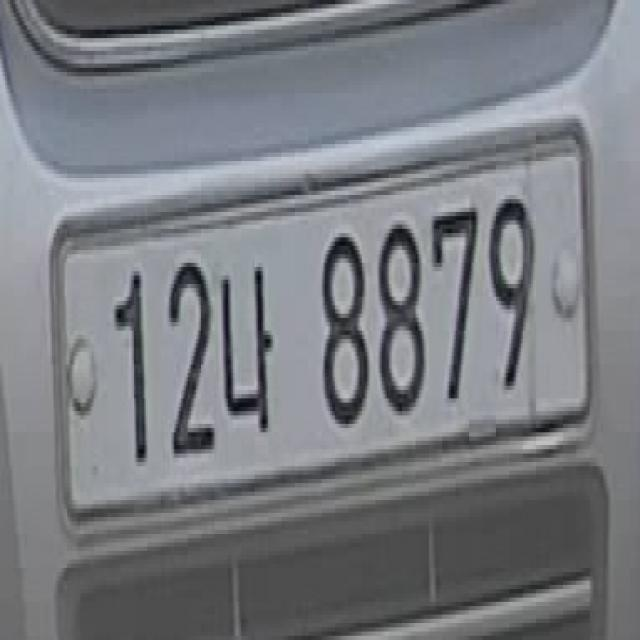1: (110, 246, 162, 483)
2: (164, 242, 221, 488)
7: (425, 195, 486, 420)
8: (315, 225, 374, 462), (377, 212, 427, 428)
9: (486, 178, 544, 407)
license_plate: (48, 106, 594, 547)
na: (221, 246, 277, 462)
